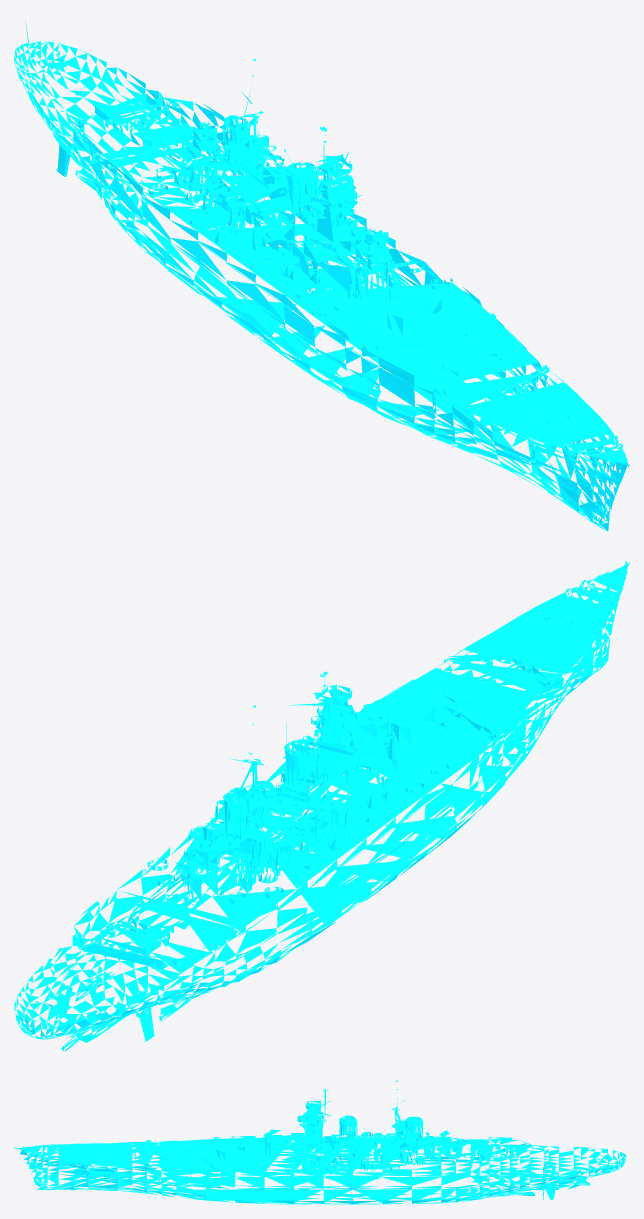
Rendered from Sovetsky_Soyuz.glb.
3 views of the same model, one above another, from view 1: azimuth 30°, elevation 25°; view 2: azimuth 150°, elevation 25°; view 3: azimuth 270°, elevation 25° (orthographic). The views are drawn at different scales.
Bounding box in the file's own units: 2.59 × 3.54 × 18.14.
